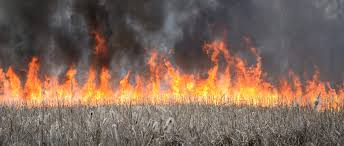fire: (7, 46, 344, 114)
